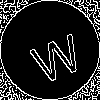W: (25, 25, 86, 85)
